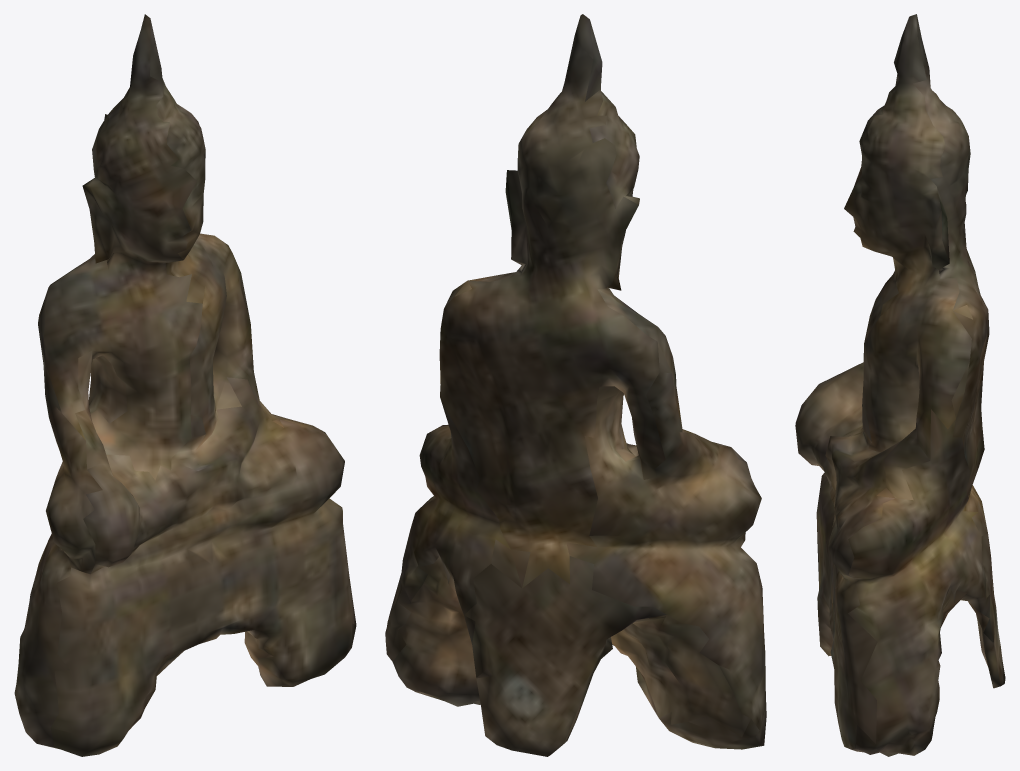
The model's file is far.glb.
3 renders of one model, left to right at view 1: azimuth 30°, elevation 25°; view 2: azimuth 150°, elevation 25°; view 3: azimuth 270°, elevation 25°, orthographic. The views are drawn at different scales.
Parts seen in each view (by area): view 1: statue-045; view 2: statue-045; view 3: statue-045.
Part boxes in pixels (x1,y1,x2,y2): statue-045: [14, 14, 356, 756]; statue-045: [385, 14, 766, 756]; statue-045: [795, 14, 1005, 756].
Bounding box in the file's own units: 0.5159 × 1 × 0.2803.
1 material, 1 textured.
